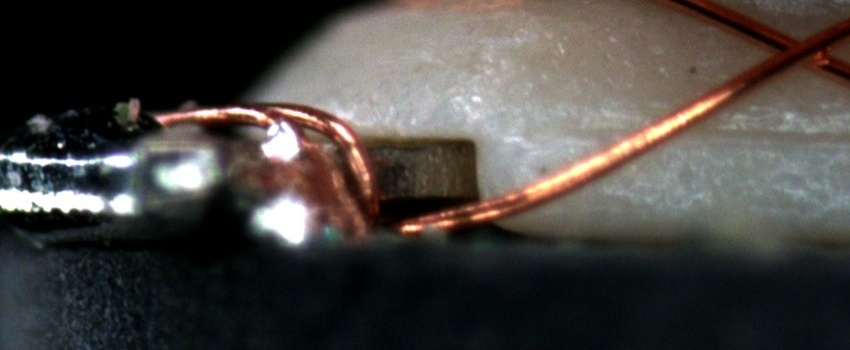CL: (755, 20, 843, 77)
DL: (531, 100, 847, 159)
TE: (150, 97, 383, 228)
